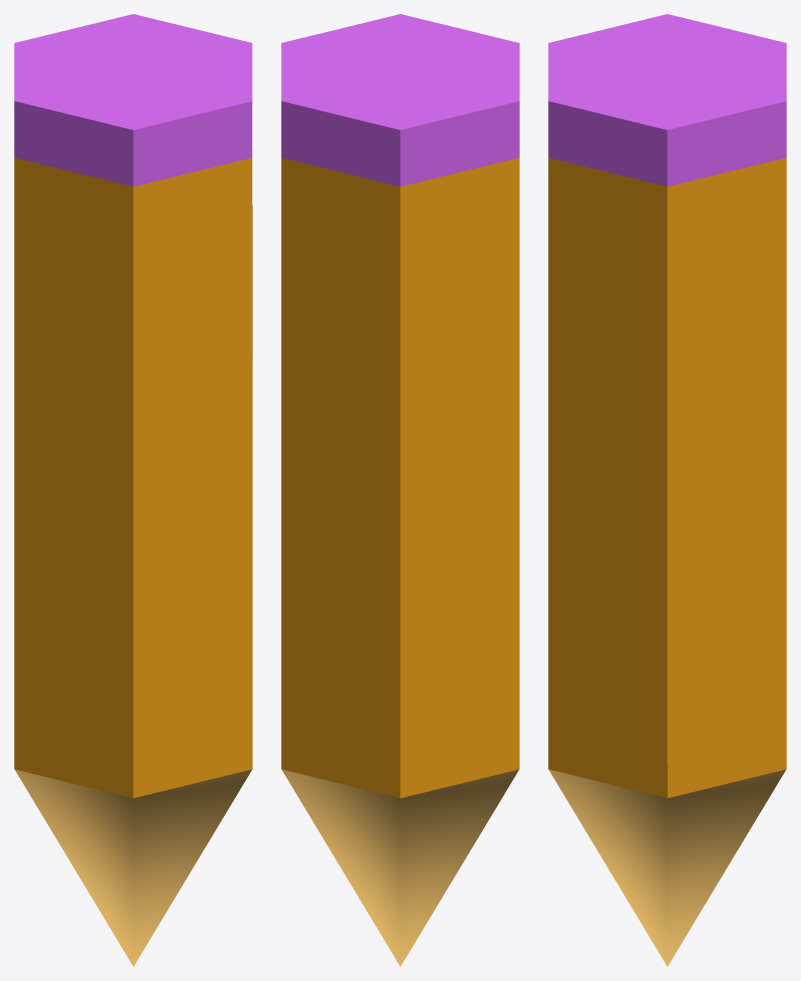
Rendered from lapiz.obj.
The picture shows the model from 3 angles, left to right: view 1: azimuth 30°, elevation 25°; view 2: azimuth 150°, elevation 25°; view 3: azimuth 270°, elevation 25°; orthographic projection.
Parts seen in each view (by area): view 1: pCylinder1; view 2: pCylinder1; view 3: pCylinder1.
Boxes of the visible parts, x1=… form: pCylinder1: x1=14, y1=14, x2=252, y2=966; pCylinder1: x1=281, y1=14, x2=519, y2=966; pCylinder1: x1=548, y1=14, x2=786, y2=966.
Bounding box in the file's own units: 2 × 7.19 × 1.73.
